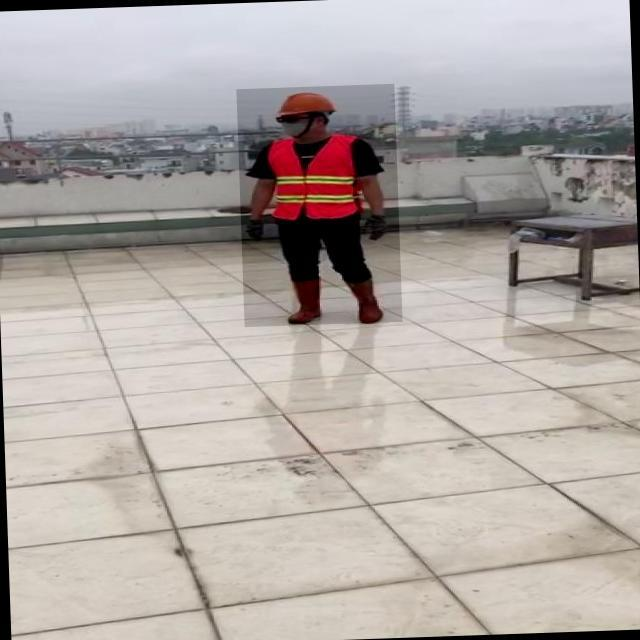Gloves: (361, 214, 388, 241), (245, 215, 269, 241)
Helmet: (274, 89, 340, 118)
Human: (236, 84, 402, 327)
Safety Boot: (343, 280, 388, 325), (283, 278, 324, 324)
Safety Vest: (266, 136, 360, 220)
